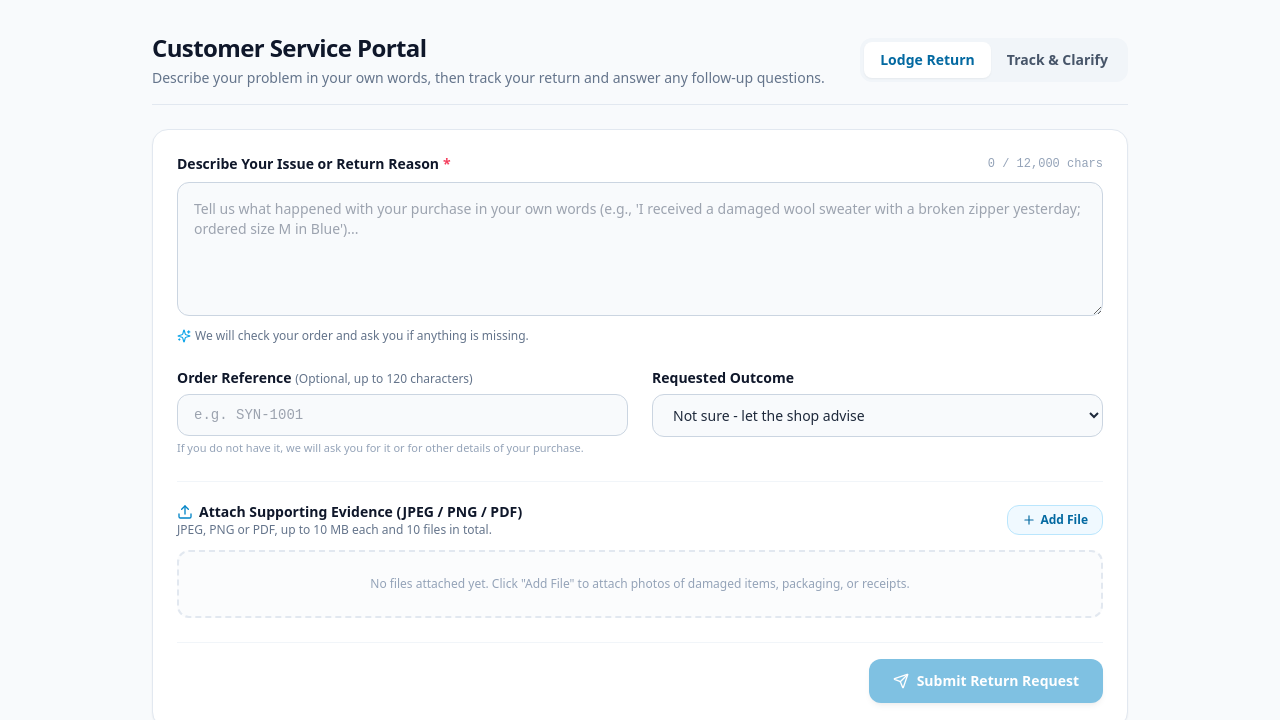
CustomerPortal: My Requests › keeps Lookup by case ID where the server offers no list
Click the button "Track & Clarify": x=1057, y=60 left=991, top=42, right=1124, bottom=78
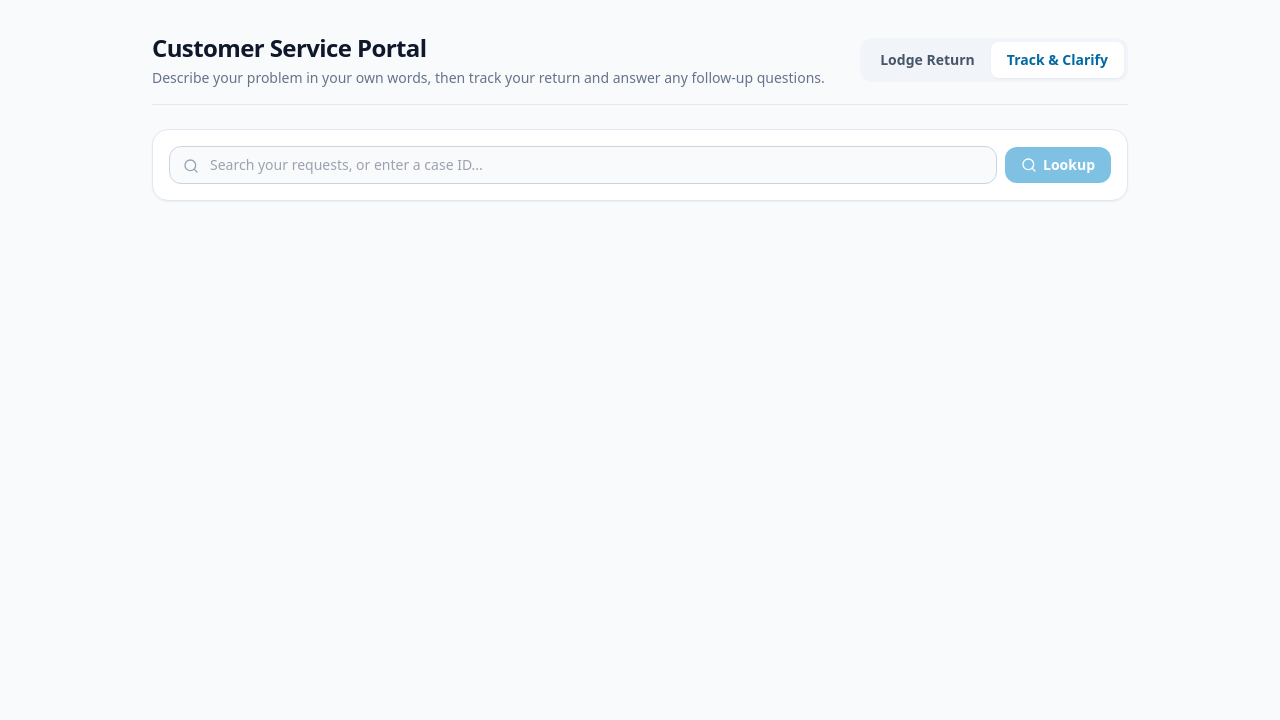
Now the field labelled "Search your requests, or enter a case ID..." is shown, box left=169, top=146, right=997, bottom=184
